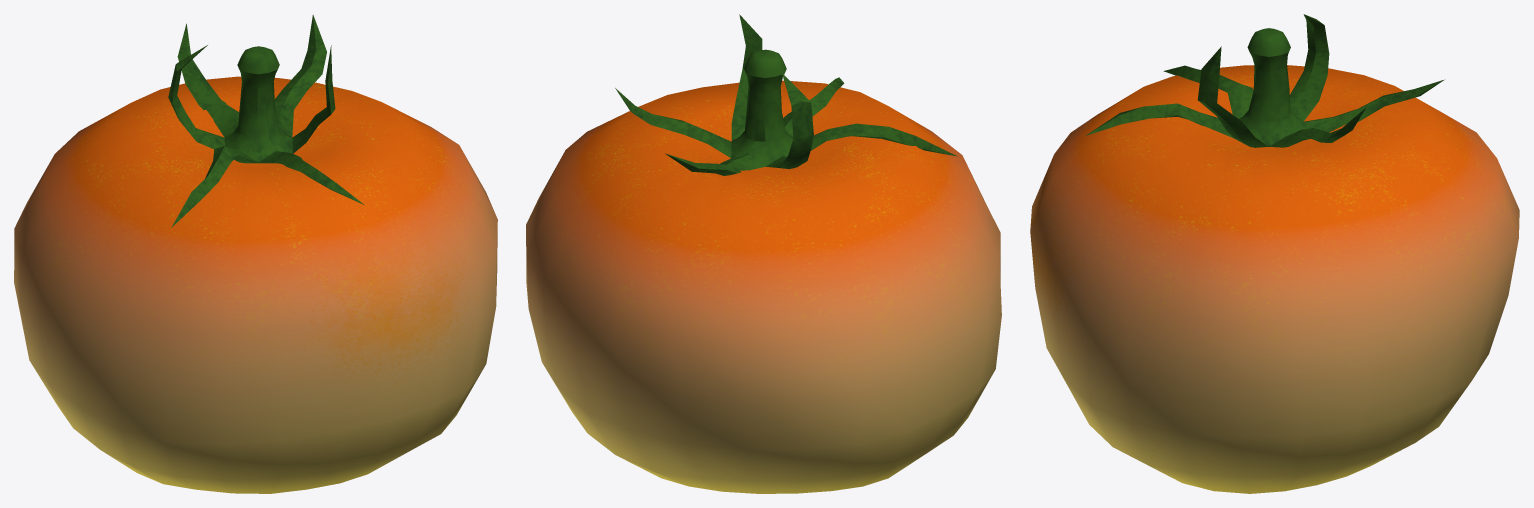
Rendered from tomato11.fbx.
The picture shows the model from 3 angles, left to right: view 1: azimuth 30°, elevation 25°; view 2: azimuth 150°, elevation 25°; view 3: azimuth 270°, elevation 25°; orthographic projection. The views are drawn at different scales.
Visible parts, largest first — view 1: Tomato11; view 2: Tomato11; view 3: Tomato11.
Boxes of the visible parts, x1,y1,x2,y2 form: Tomato11: (14, 14, 497, 493); Tomato11: (526, 14, 1001, 493); Tomato11: (1030, 14, 1519, 493).
Size of the model in its own units: 6.57 by 6.46 by 6.5.
1 material, 1 textured.
